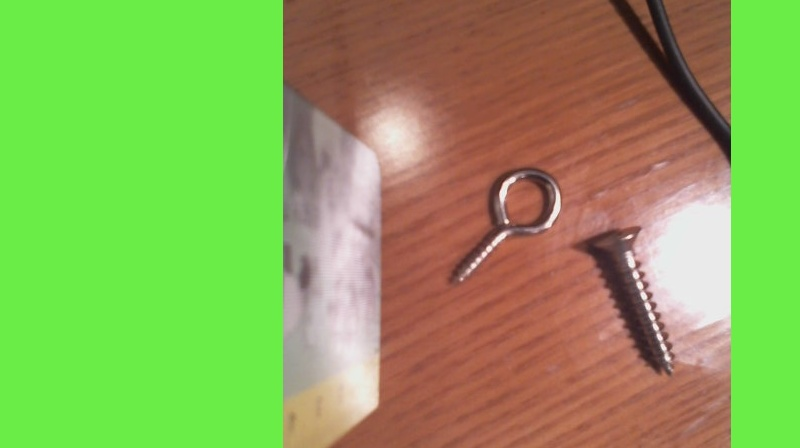O001: (447, 166, 563, 294)
S001: (588, 223, 676, 378)
